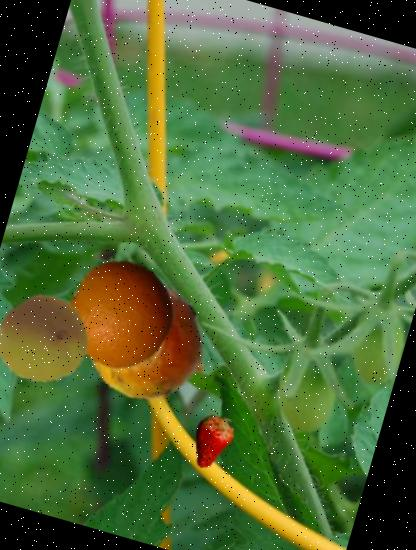Onion: (70, 266, 221, 417)
Orange: (52, 248, 188, 382)
Peach: (0, 283, 100, 398)
Strawberry: (178, 409, 245, 476)
